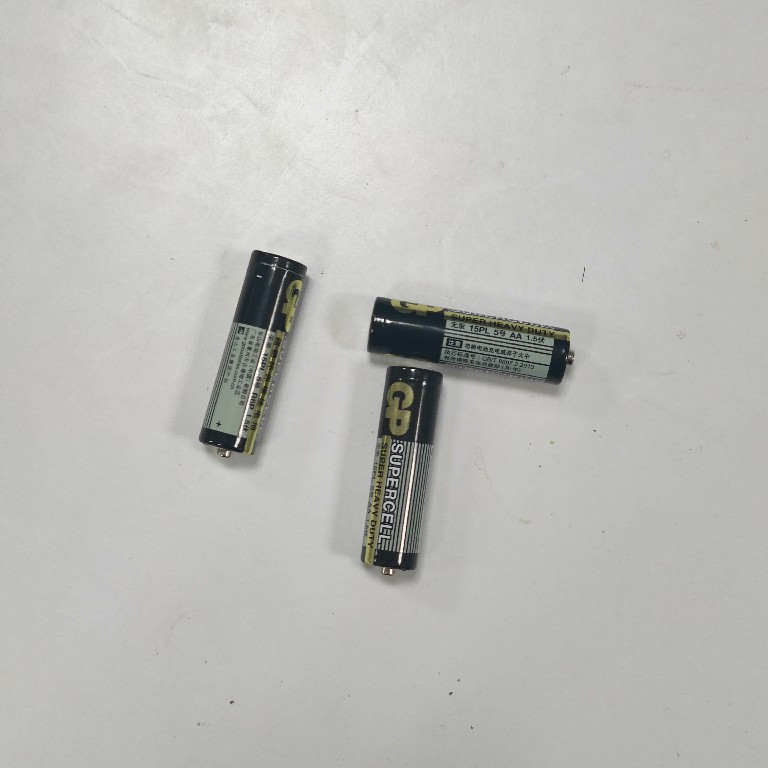charge: (196, 244, 313, 463), (362, 292, 581, 392), (356, 362, 446, 579)
